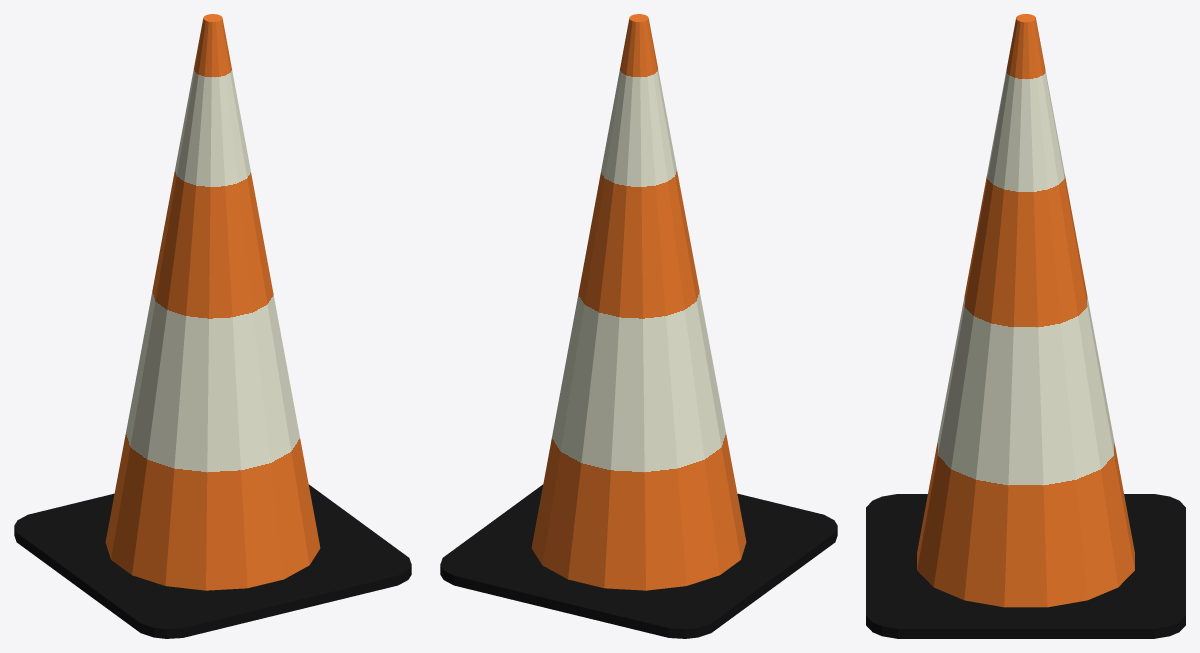
The model's file is traffic_cone.glb.
3 renders of one model, left to right at view 1: azimuth 30°, elevation 25°; view 2: azimuth 150°, elevation 25°; view 3: azimuth 270°, elevation 25°, orthographic. The views are drawn at different scales.
Parts seen in each view (by area): view 1: traffic_cone; view 2: traffic_cone; view 3: traffic_cone.
Boxes of the visible parts, x1,y1,x2,y2 form: traffic_cone: [14, 14, 411, 638]; traffic_cone: [440, 14, 837, 638]; traffic_cone: [866, 14, 1185, 638].
Size of the model in its own units: 1.44 by 2.75 by 1.44.
1 material, 1 textured.
